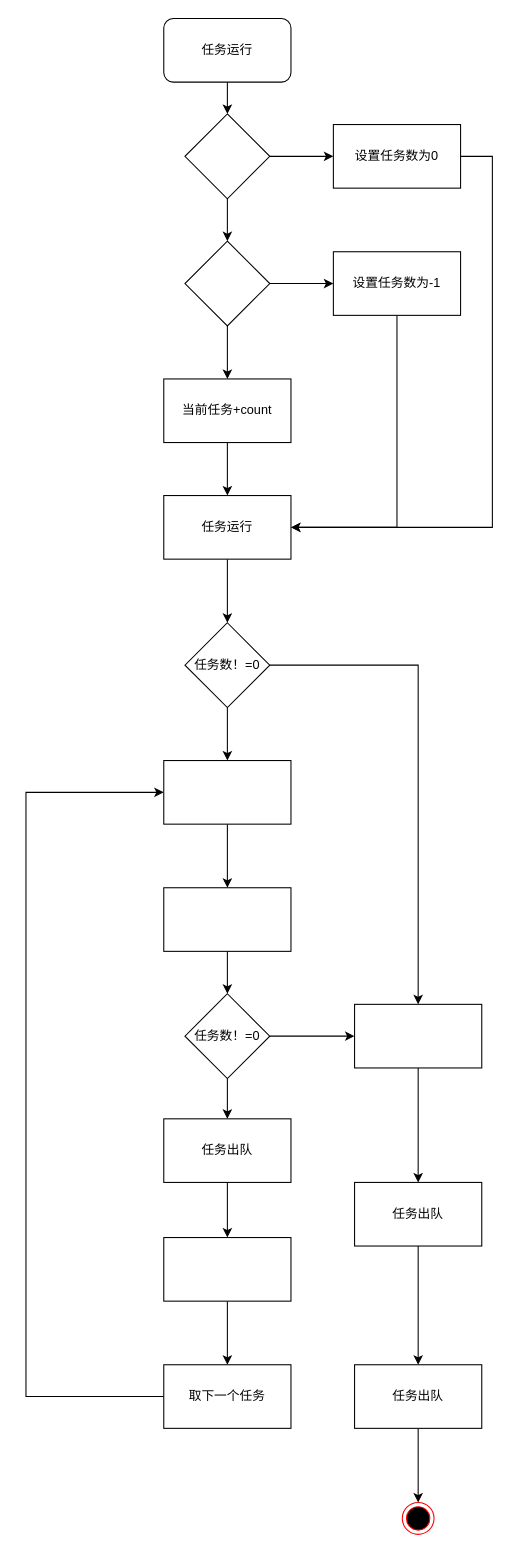
Image size: 519x1553. Some labels were removed from this diagram. The centre of each missing label's shape, as x and y in pixels:
"count ！=0" belongs at point 227,156.
"count！=-1" belongs at point 227,283.
"任务入队" belongs at point 227,1268.
"任务减1" belongs at point 227,919.
"运行" belongs at point 227,791.
"运行结束" belongs at point 418,1035.
